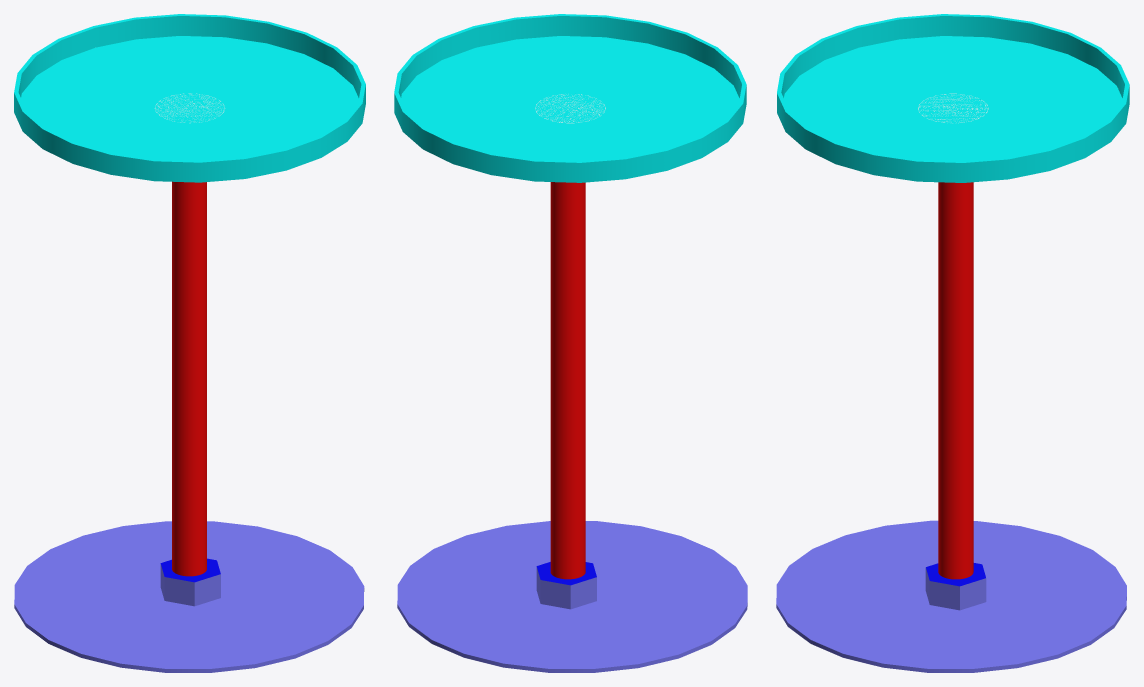
Rendered from candy_Plate.dae.
The picture shows the model from 3 angles, left to right: view 1: azimuth 30°, elevation 25°; view 2: azimuth 150°, elevation 25°; view 3: azimuth 270°, elevation 25°; orthographic projection.
Visible parts, largest first — view 1: SketchUp, group_0, SketchUp_002, group_0_027, group_0_026, group_0_002, SketchUp_004, SketchUp_003; view 2: SketchUp, group_0, SketchUp_002, group_0_027, group_0_026, group_0_002, SketchUp_004, SketchUp_003; view 3: SketchUp, group_0, SketchUp_002, group_0_027, group_0_026, group_0_002, SketchUp_004, SketchUp_003.
Part boxes in pixels (box(x1,y1,x2,y2)): SketchUp: box(14, 521, 364, 672); group_0: box(21, 36, 358, 160); SketchUp_002: box(172, 181, 206, 576); group_0_027: box(14, 14, 365, 182); group_0_026: box(18, 16, 361, 97); group_0_002: box(155, 93, 224, 122); SketchUp_004: box(160, 564, 220, 606); SketchUp_003: box(160, 558, 220, 582); SketchUp: box(397, 521, 747, 672); group_0: box(401, 36, 739, 160); SketchUp_002: box(550, 182, 585, 579); group_0_027: box(394, 14, 746, 182); group_0_026: box(398, 16, 741, 97); group_0_002: box(535, 93, 604, 122); SketchUp_004: box(536, 567, 596, 609); SketchUp_003: box(536, 562, 596, 585); SketchUp: box(776, 520, 1126, 672); group_0: box(784, 36, 1122, 161); SketchUp_002: box(938, 182, 973, 579); group_0_027: box(777, 14, 1129, 182); group_0_026: box(781, 16, 1124, 97); group_0_002: box(918, 94, 987, 123); SketchUp_004: box(925, 567, 986, 610); SketchUp_003: box(926, 563, 985, 586).
Size of the model in its own units: 0.4001 by 0.3999 by 0.6384.
